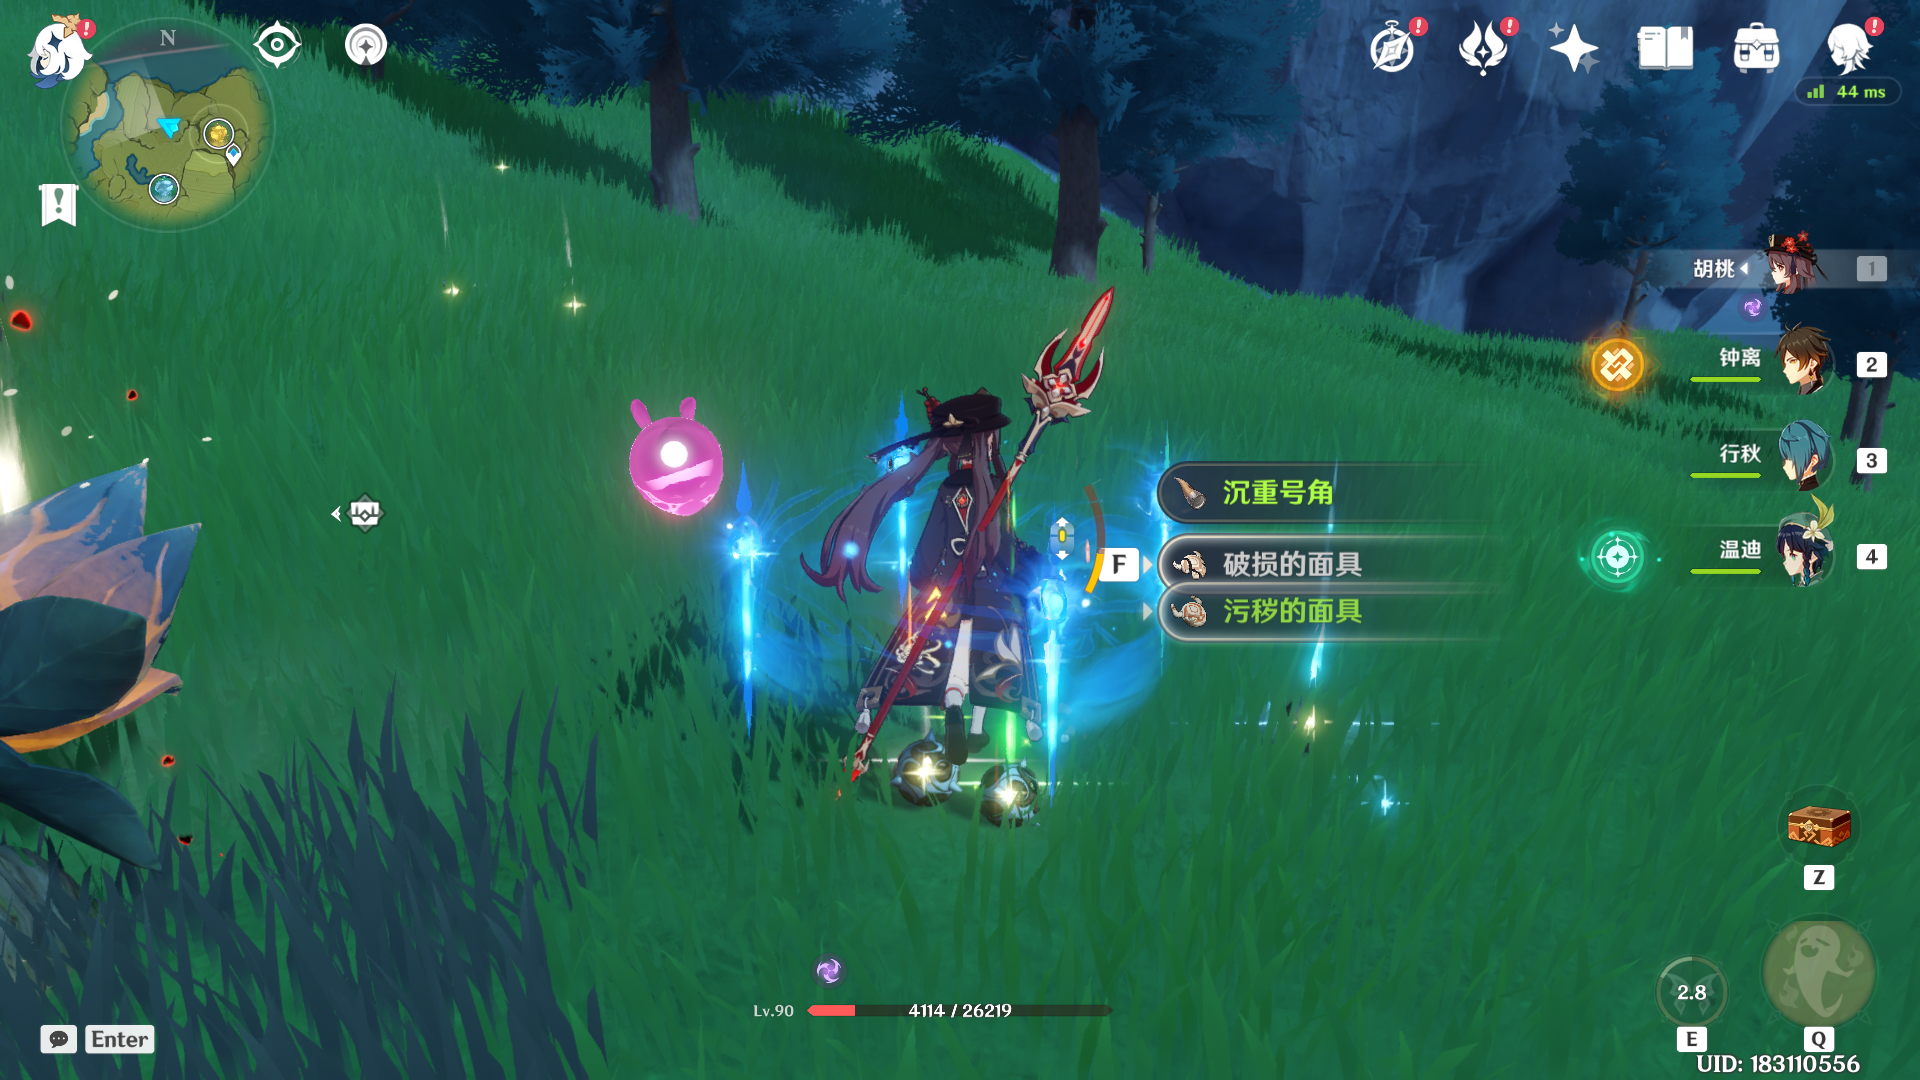character: (804, 289, 1162, 833)
